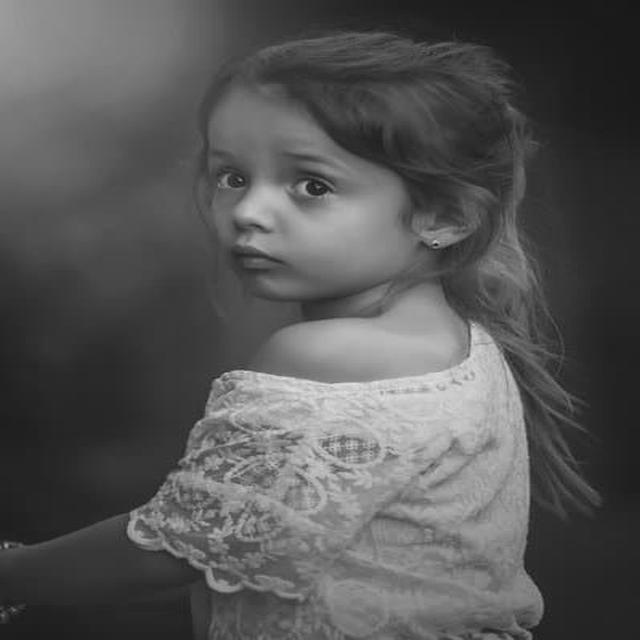Sadness: (210, 93, 402, 302)
